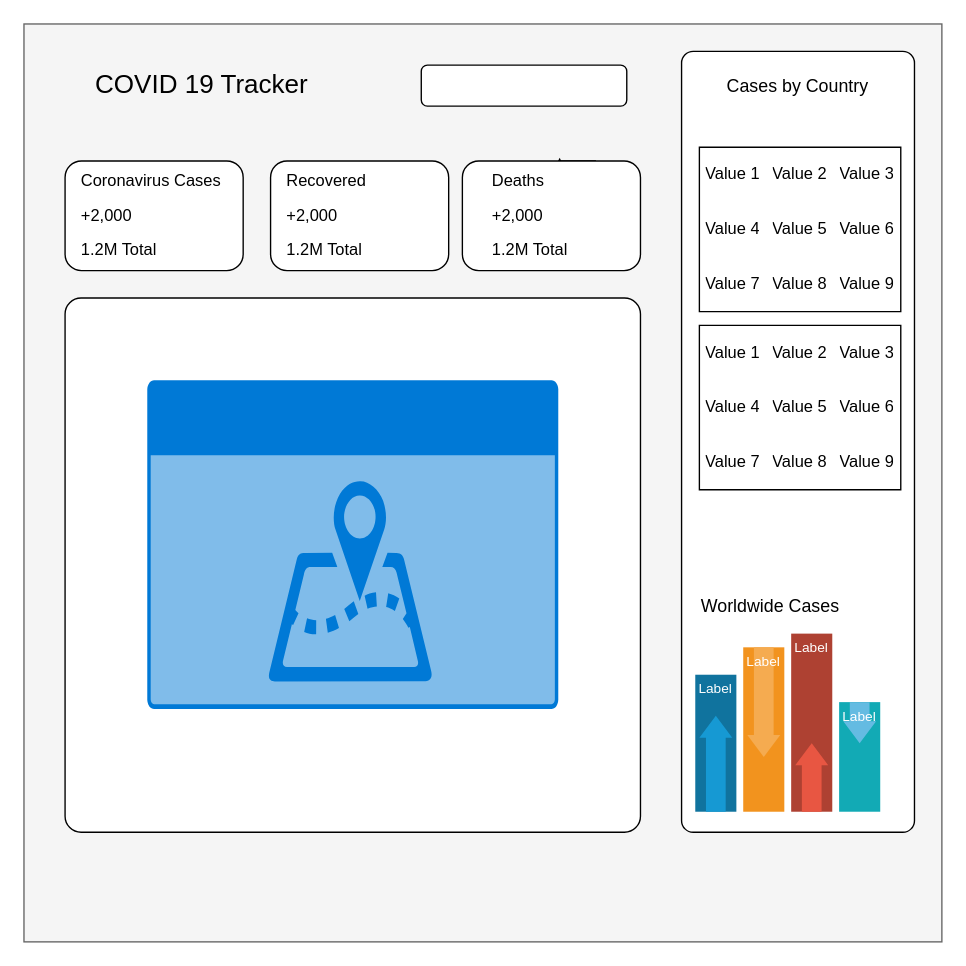
Image size: 966x966. Some labels were removed from this diagram. Each missing label, with the box of its shape:
Map: (147, 379, 558, 708)
Worldwide: (420, 64, 627, 106)
